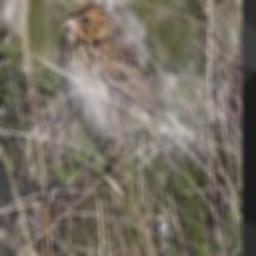Sparrow: (54, 0, 215, 172)
